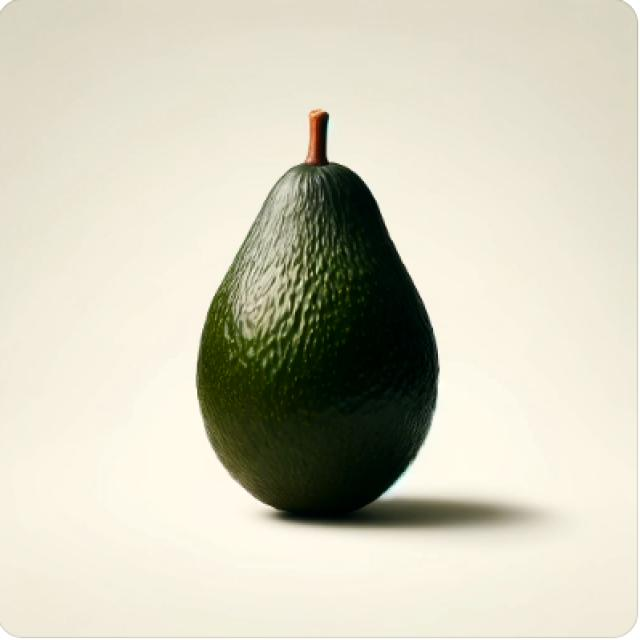fruit: (197, 166, 441, 515)
peduncle: (303, 109, 330, 165)
